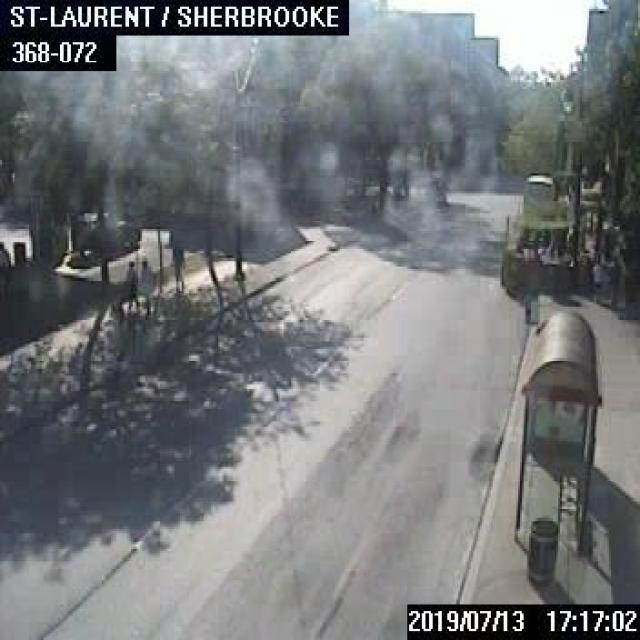pedestrian: (140, 256, 155, 314), (124, 259, 138, 313), (170, 244, 184, 289), (0, 239, 9, 301)
vehicle: (521, 171, 551, 215)
